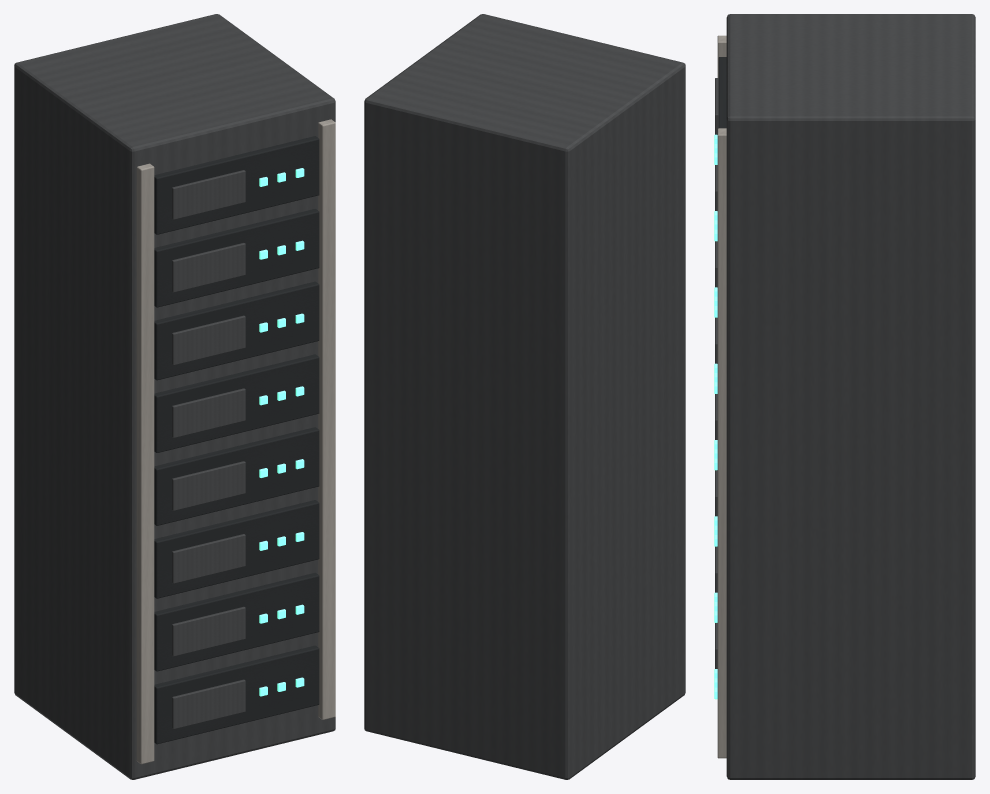
Rendered from server_rack.glb.
The picture shows the model from 3 angles, left to right: view 1: azimuth 30°, elevation 25°; view 2: azimuth 150°, elevation 25°; view 3: azimuth 270°, elevation 25°; orthographic projection. The views are drawn at different scales.
Visible parts, largest first — view 1: rack_shell, side_frame, side_frame.001, server_unit.006, server_unit, server_unit.001, server_unit.003, server_unit.007, server_unit.002, server_unit.004, server_unit.005, server_label (+7 smaller); view 2: rack_shell; view 3: rack_shell, side_frame.001, server_unit.007.
Boxes of the visible parts, x1,y1,x2,y2 form: rack_shell: (14, 14, 335, 779); side_frame: (136, 163, 154, 764); side_frame.001: (318, 119, 335, 719); server_unit.006: (154, 209, 319, 307); server_unit: (154, 645, 319, 744); server_unit.001: (154, 572, 319, 671); server_unit.003: (154, 427, 319, 525); server_unit.007: (154, 136, 319, 234); server_unit.002: (154, 500, 319, 598); server_unit.004: (154, 354, 319, 452); server_unit.005: (154, 281, 319, 380); server_label: (172, 679, 245, 729); rack_shell: (364, 14, 685, 779); rack_shell: (726, 14, 975, 779); side_frame.001: (717, 128, 726, 758); server_unit.007: (718, 57, 726, 128).
Bounding box in the file's own units: 0.68 × 2 × 0.714.
Materials: 4 (3 with a texture image).
